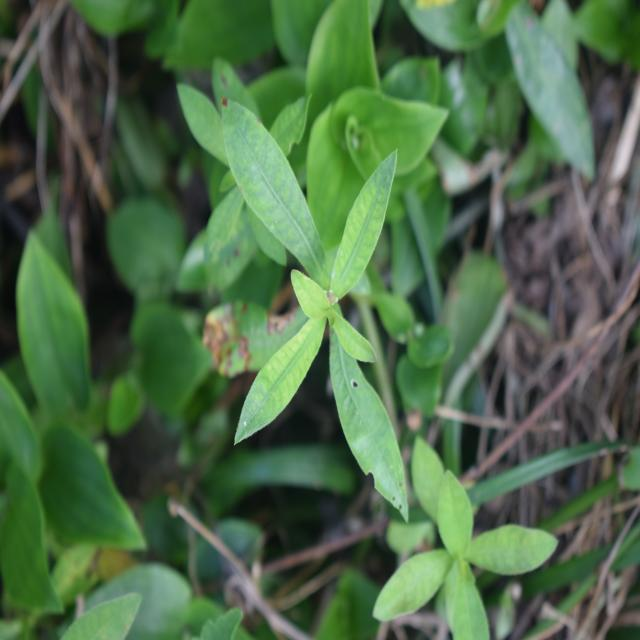Alligatorweed: (211, 109, 423, 497)
